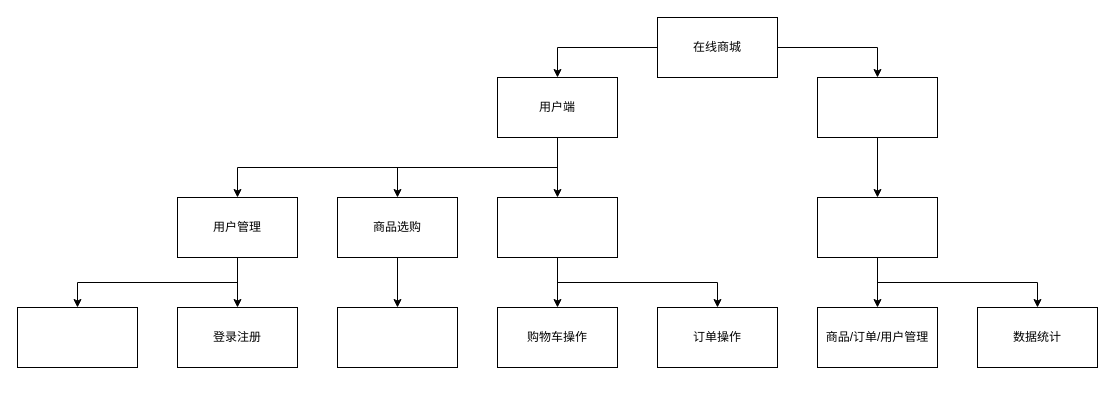
Image size: 1115x393. Some labels were removed from this diagram. Each missing label, with the centre of its shape:
个人信息管理: point (77, 337)
后台管理: point (877, 227)
商品搜索/商品展示: point (397, 337)
管理员端: point (877, 107)
购物功能: point (557, 227)
